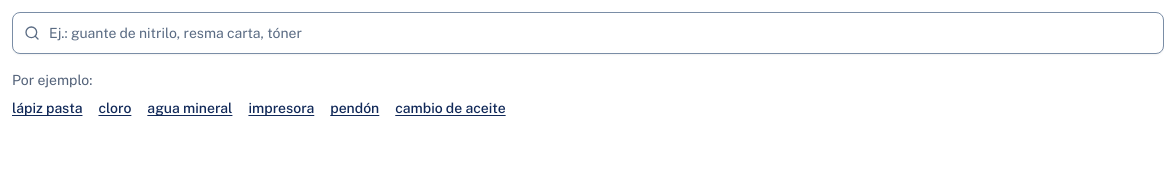
buscador de productos › enlaza cada producto por su slug, también los no indexables
In the search field named "buscar un producto": (588, 33) [12,12,1164,54], type "guante"
Wait 300 ms
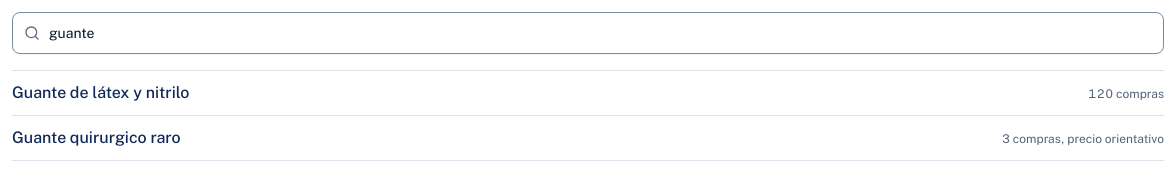
expect the link "Guante quirurgico raro 3 compras, precio orientativo" is shown: met, box [12,128,1164,147]
